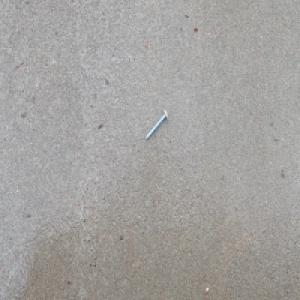Nail: (146, 107, 170, 140)
